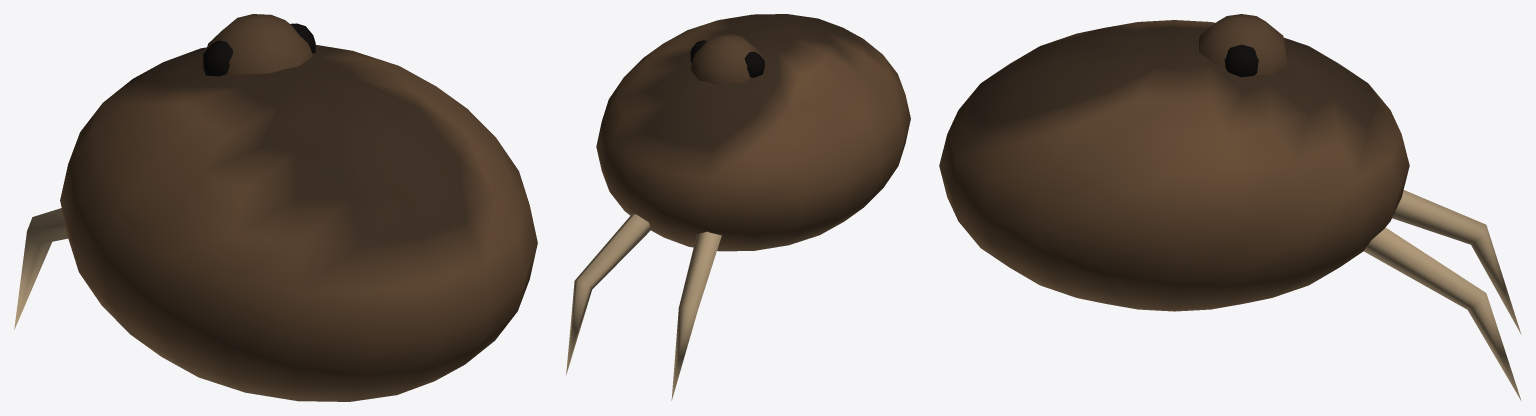
File: Zatoumushi.fbx
The picture shows the model from 3 angles, left to right: view 1: azimuth 30°, elevation 25°; view 2: azimuth 150°, elevation 25°; view 3: azimuth 270°, elevation 25°; orthographic projection. The views are drawn at different scales.
Visible parts, largest first — view 1: Zatoumushi; view 2: Zatoumushi; view 3: Zatoumushi.
Part boxes in pixels (x1,y1,x2,y2): Zatoumushi: (14, 14, 537, 401); Zatoumushi: (566, 14, 910, 400); Zatoumushi: (939, 14, 1521, 400).
Bounding box in the file's own units: 0.34 × 0.345 × 0.52.
